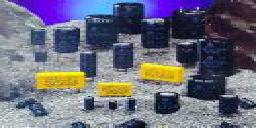Electrolytic-Capacitor: (198, 38, 240, 79), (138, 61, 187, 85), (112, 39, 137, 75), (74, 48, 102, 79), (153, 90, 182, 118), (217, 93, 240, 118)
